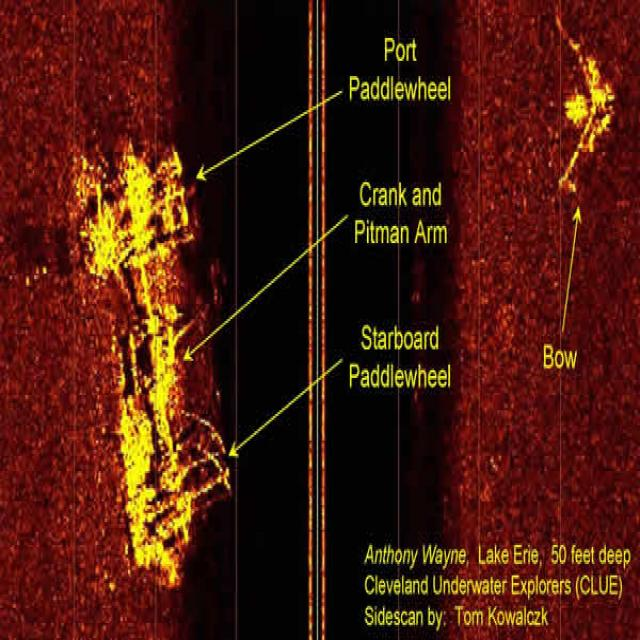ship: (83, 144, 221, 581)
